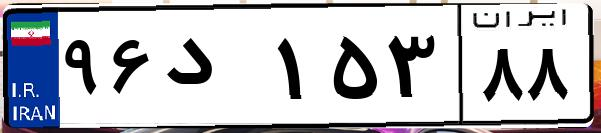1: (270, 28, 330, 110)
3: (385, 28, 445, 110)
5: (330, 28, 385, 110)
6: (110, 28, 158, 98)
8: (475, 38, 525, 113), (525, 38, 570, 115)
9: (57, 26, 110, 100)
د: (158, 20, 270, 120)
